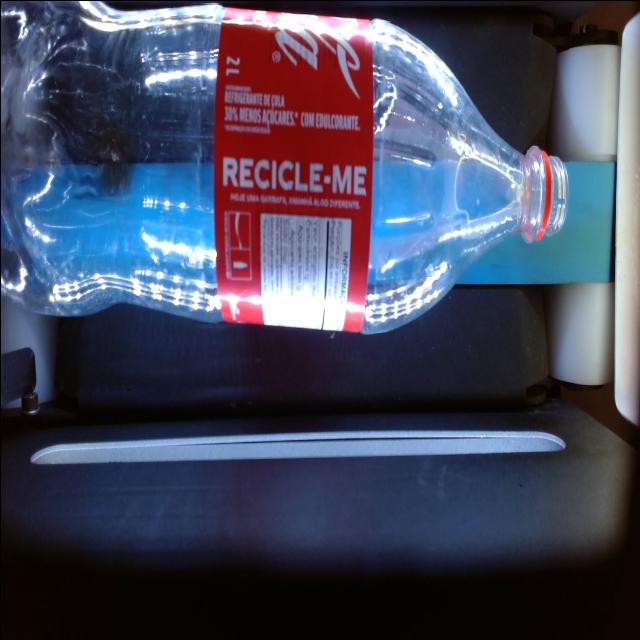bottom: (1, 3, 221, 320)
label: (213, 9, 373, 331)
neck: (364, 21, 567, 331)
